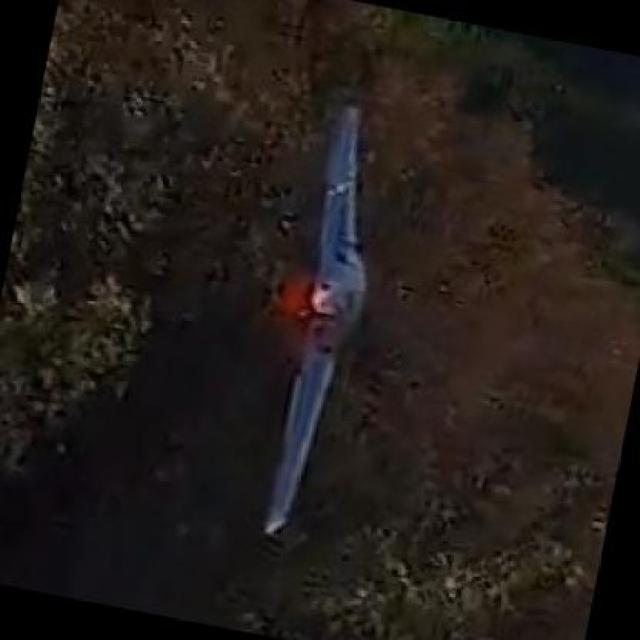iha: (293, 88, 344, 552)
